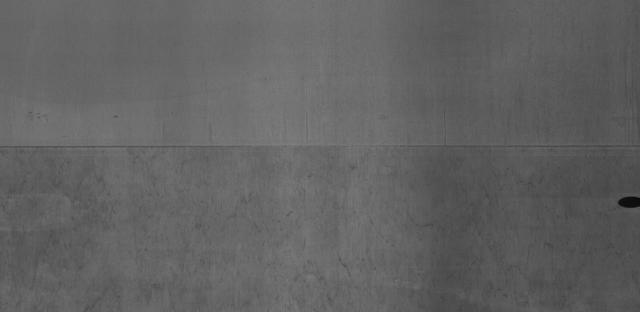punching_hole: (616, 194, 639, 210)
